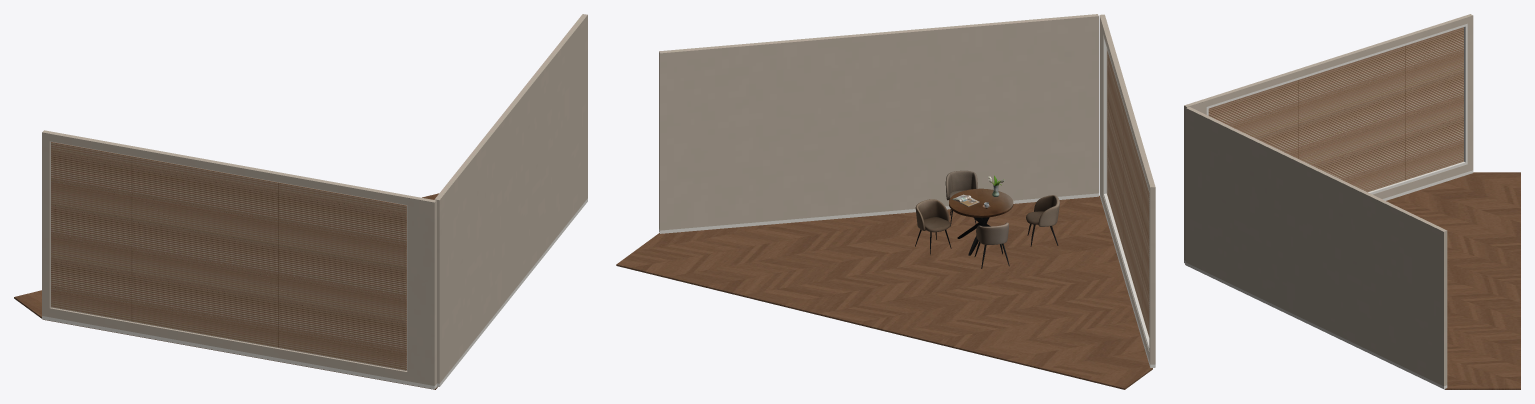
The model's file is dining-round.glb.
The picture shows the model from 3 angles, left to right: view 1: azimuth 30°, elevation 25°; view 2: azimuth 150°, elevation 25°; view 3: azimuth 270°, elevation 25°; orthographic projection. The views are drawn at different scales.
Visible parts, largest first — view 1: wall_1_backdrop, wall_0, wall_1, wall_1_window_frame, floor_0; view 2: wall_0, floor_0, wall_1_backdrop, wall_1, obj_table_0, wall_1_window_frame, obj_chair_2, obj_chair_1, obj_chair_3, obj_chair_0; view 3: wall_0, wall_1_backdrop, floor_0, wall_1, wall_1_window_frame.
Part boxes in pixels (box(x1,y1,x2,y2)): wall_1_backdrop: box(51, 142, 406, 370); wall_0: box(434, 14, 587, 386); wall_1: box(42, 130, 436, 389); wall_1_window_frame: box(50, 141, 407, 370); floor_0: box(14, 193, 438, 389); wall_0: box(659, 14, 1098, 233); floor_0: box(616, 195, 1152, 389); wall_1_backdrop: box(1107, 50, 1149, 336); wall_1: box(1099, 14, 1155, 367); obj_table_0: box(949, 188, 1013, 255); wall_1_window_frame: box(1103, 36, 1149, 350); obj_chair_2: box(915, 199, 951, 254); obj_chair_1: box(1026, 195, 1059, 246); obj_chair_3: box(974, 222, 1009, 268); obj_chair_0: box(945, 170, 977, 226); wall_0: box(1186, 107, 1447, 388); wall_1_backdrop: box(1208, 27, 1463, 192); floor_0: box(1185, 172, 1520, 389); wall_1: box(1184, 14, 1473, 263); wall_1_window_frame: box(1206, 23, 1467, 194).
Bounding box in the file's own units: 8.9 × 3.03 × 5.82.
Materials: 14 (13 with a texture image).
